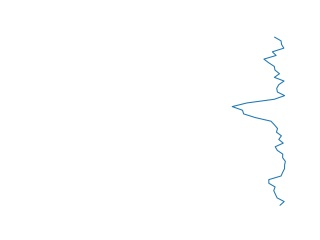interdistributaryEstuary: (228, 36, 295, 205)
